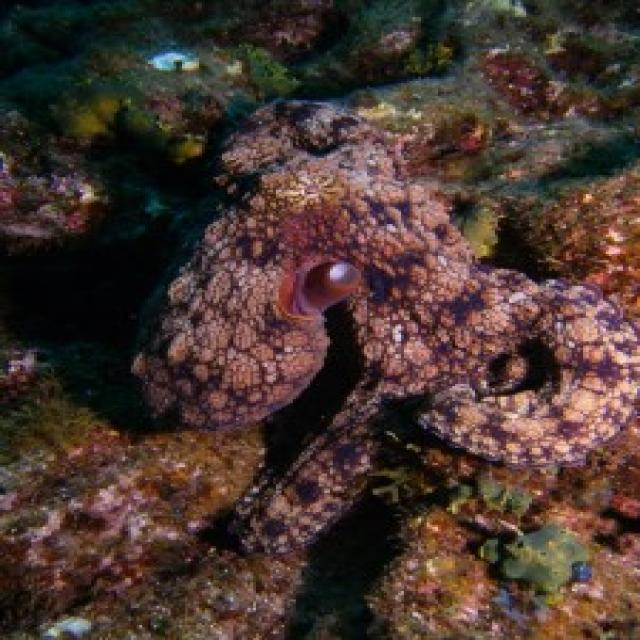Octo: (141, 102, 640, 596)
